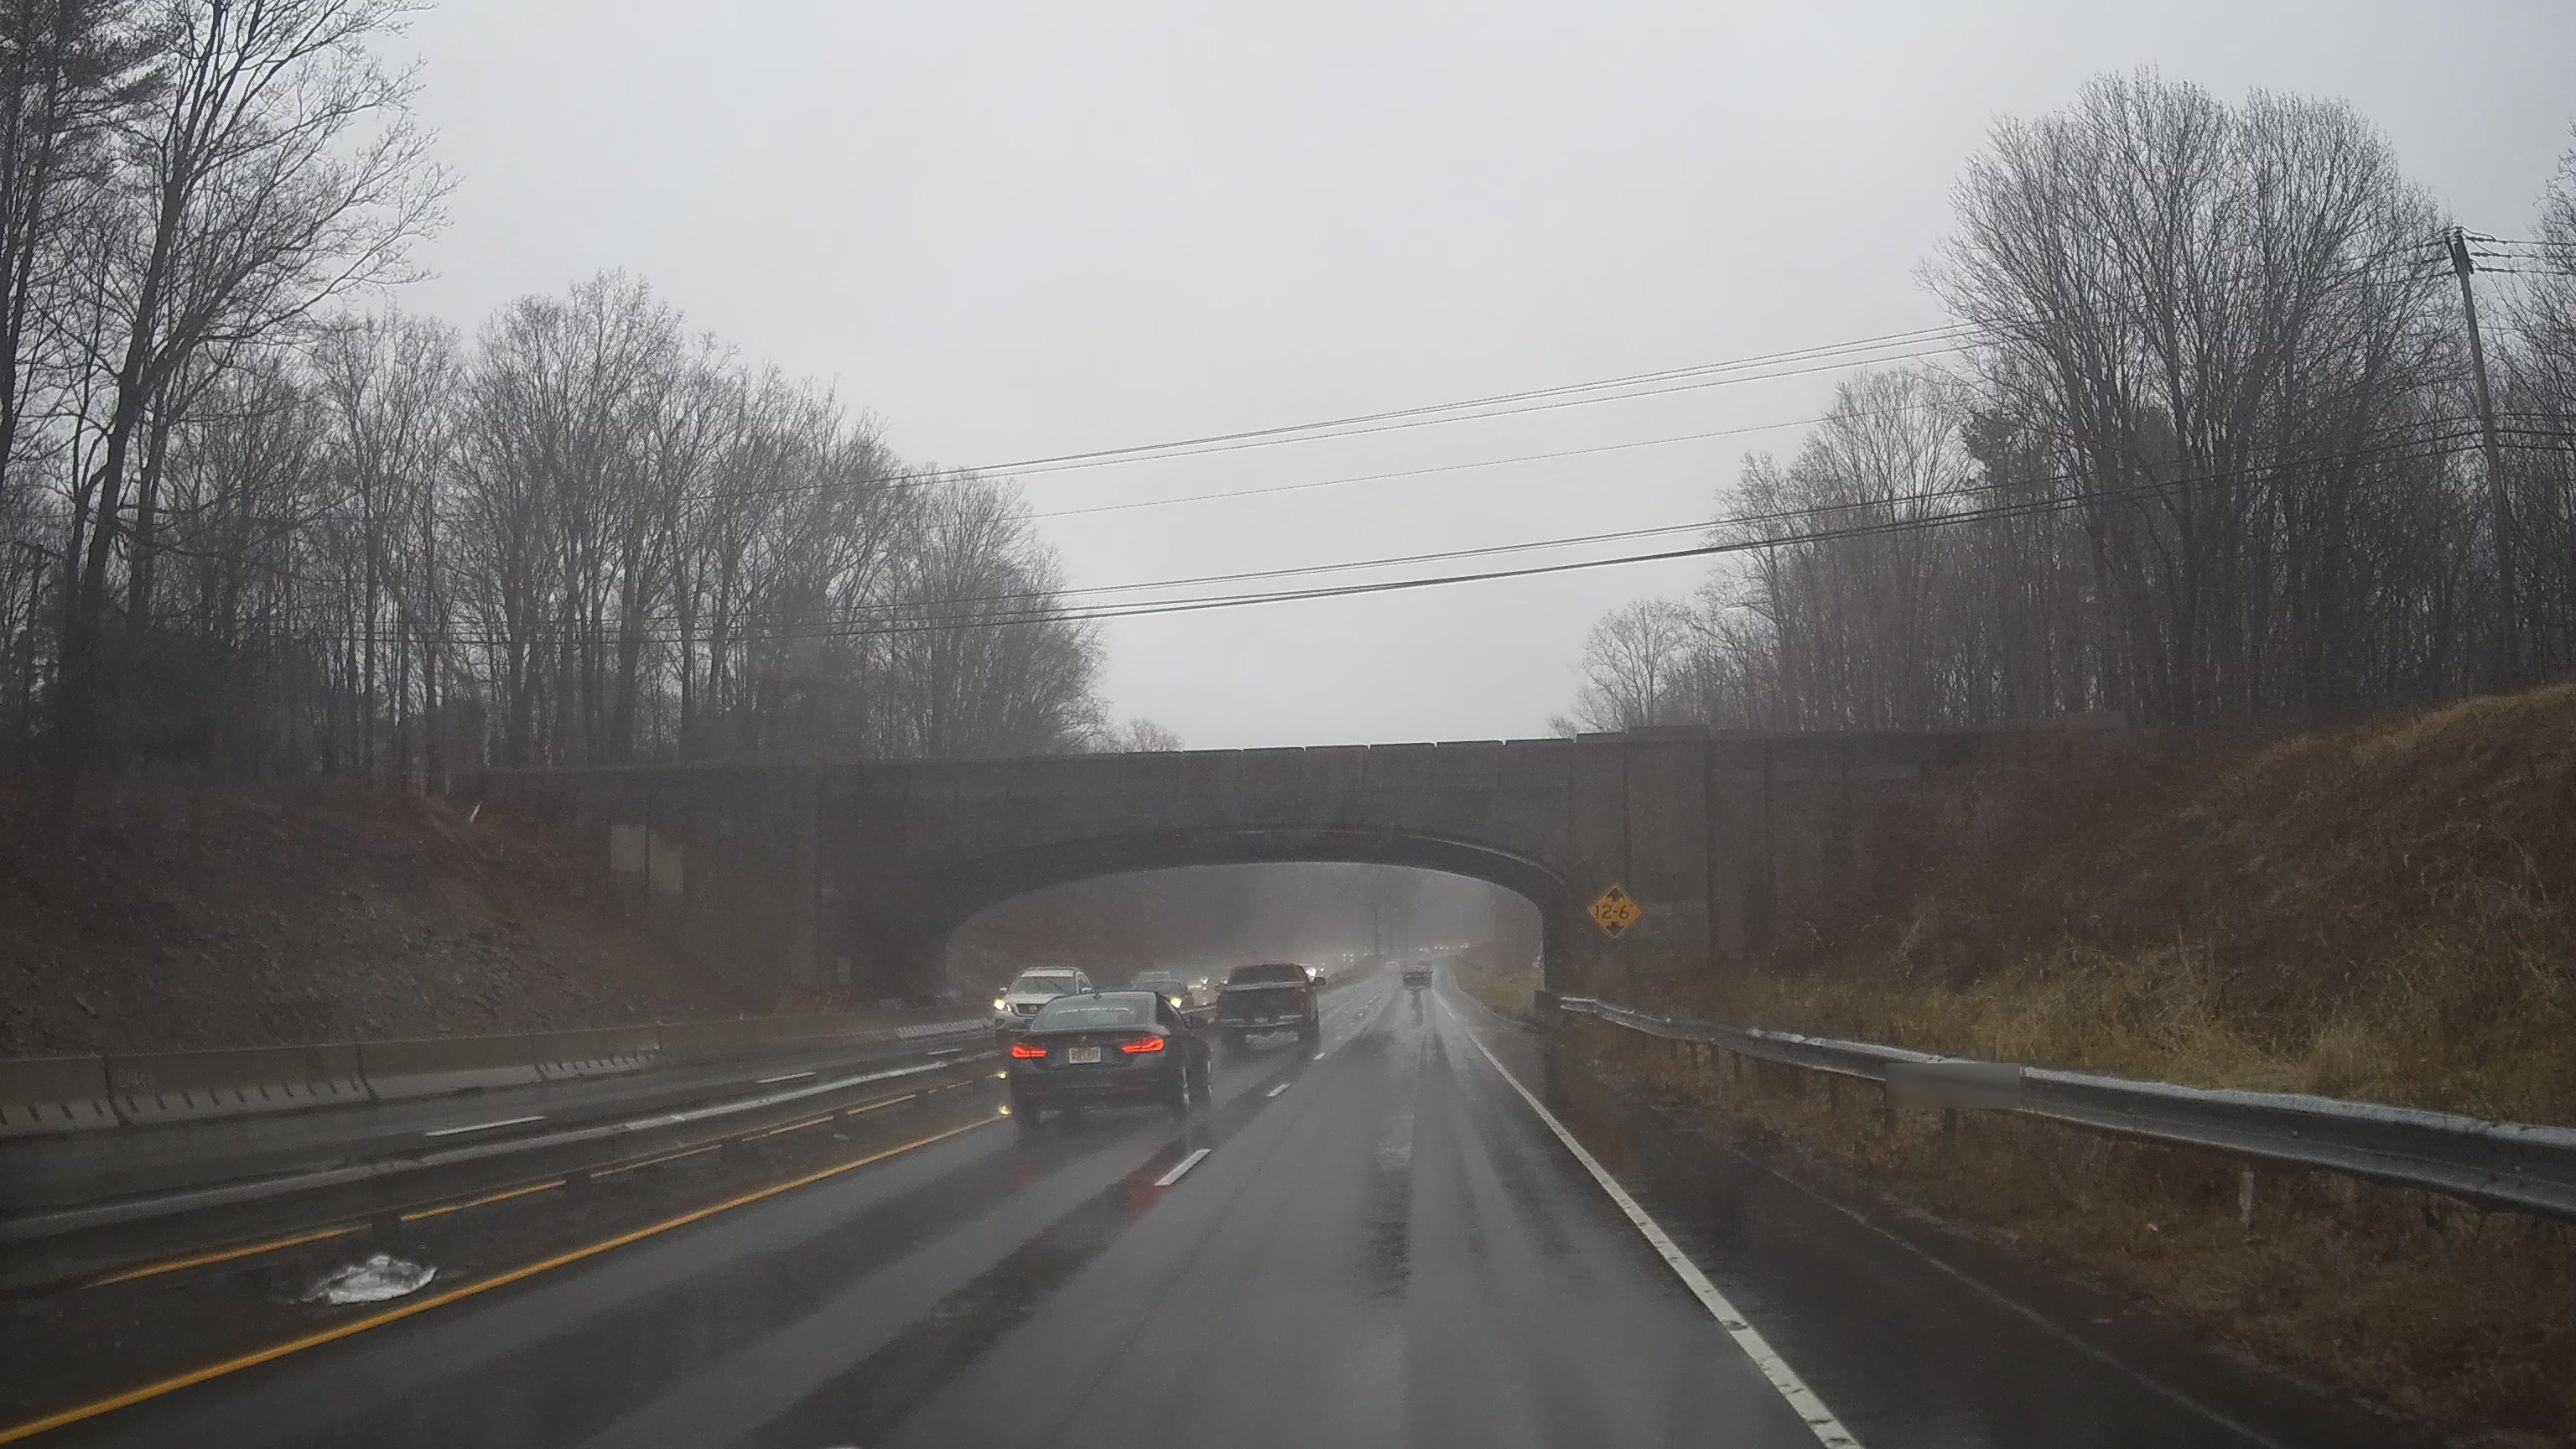low-clearance-sign: (1585, 883, 1644, 941)
